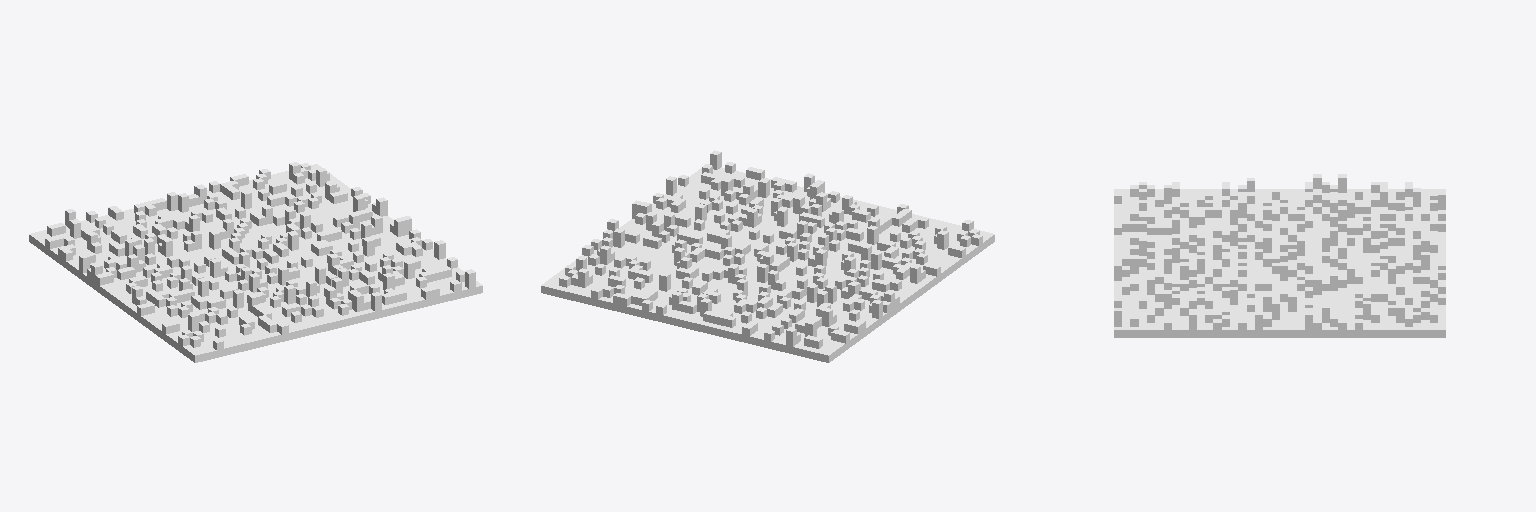
Rendered from dirt_floor_75-100.obj.
3 renders of one model, left to right at view 1: azimuth 30°, elevation 25°; view 2: azimuth 150°, elevation 25°; view 3: azimuth 270°, elevation 25°, orthographic.
Parts seen in each view (by area): view 1: object 1; view 2: object 1; view 3: object 1.
Boxes of the visible parts, box(x1,y1,x2,y2) form: object 1: box(29, 162, 482, 362); object 1: box(541, 150, 994, 362); object 1: box(1114, 174, 1445, 337).
Size of the model in its own units: 4 by 0.3 by 4.